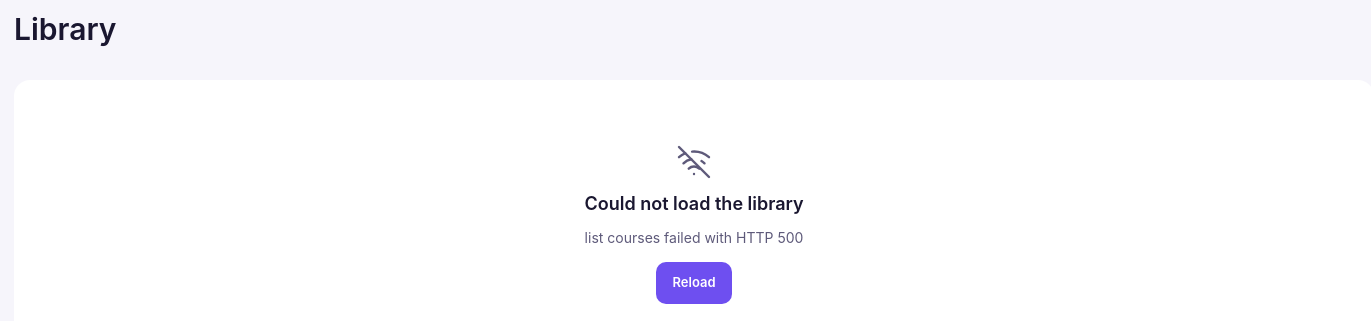
Test: LibraryPage › explains when the server cannot list the library, and loads it again on retry
Expected: the message shows "Could not load the library", [584,193,804,214]
Click the button "Reload". click: click(694, 283)
box: [656,262,732,304]
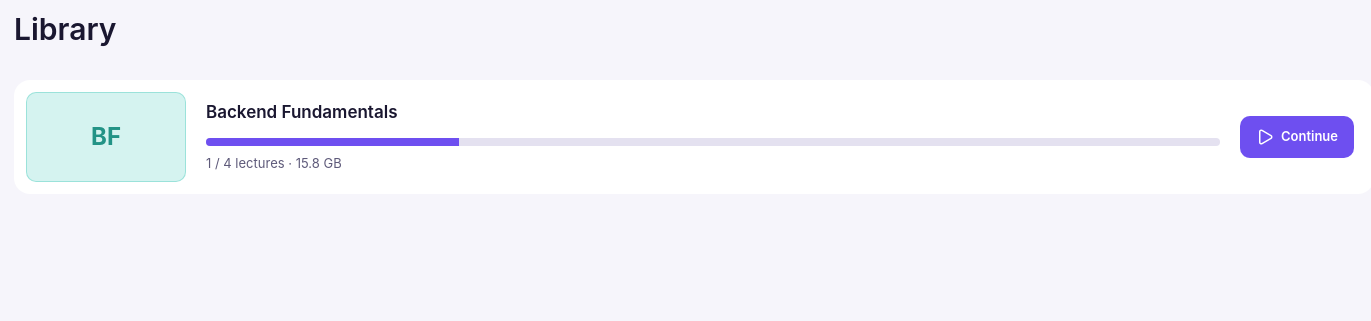
Expected: the link "Backend Fundamentals" is shown, [206,102,398,122]
